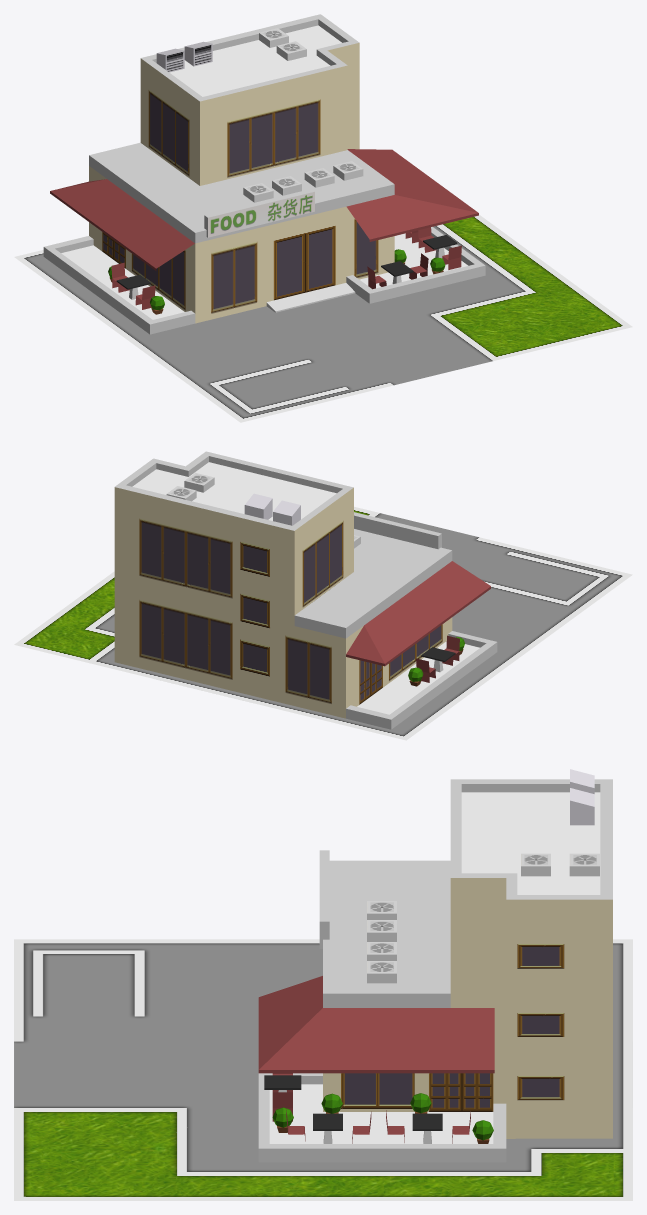
File: Supermarket_lvl_2.fbx
The picture shows the model from 3 angles, top to bottom: view 1: azimuth 30°, elevation 25°; view 2: azimuth 150°, elevation 25°; view 3: azimuth 270°, elevation 25°; orthographic projection. The views are drawn at different scales.
Parts seen in each view (by area): view 1: Supermarket_Lvl_2, Supermarket_BG, Supermarket_Lvl_2.001; view 2: Supermarket_Lvl_2, Supermarket_BG, Supermarket_Lvl_2.001; view 3: Supermarket_Lvl_2, Supermarket_BG, Supermarket_Lvl_2.001.
Boxes of the visible parts, left/top/right/bottom form: Supermarket_Lvl_2: left=43, top=14, right=485, bottom=334; Supermarket_BG: left=14, top=214, right=632, bottom=422; Supermarket_Lvl_2.001: left=50, top=149, right=478, bottom=309; Supermarket_Lvl_2: left=114, top=451, right=497, bottom=729; Supermarket_BG: left=14, top=506, right=632, bottom=740; Supermarket_Lvl_2.001: left=346, top=561, right=490, bottom=682; Supermarket_Lvl_2: left=258, top=769, right=612, bottom=1162; Supermarket_BG: left=14, top=939, right=632, bottom=1200; Supermarket_Lvl_2.001: left=258, top=976, right=494, bottom=1143.
Size of the model in its own units: 2000 by 915 by 2000.
